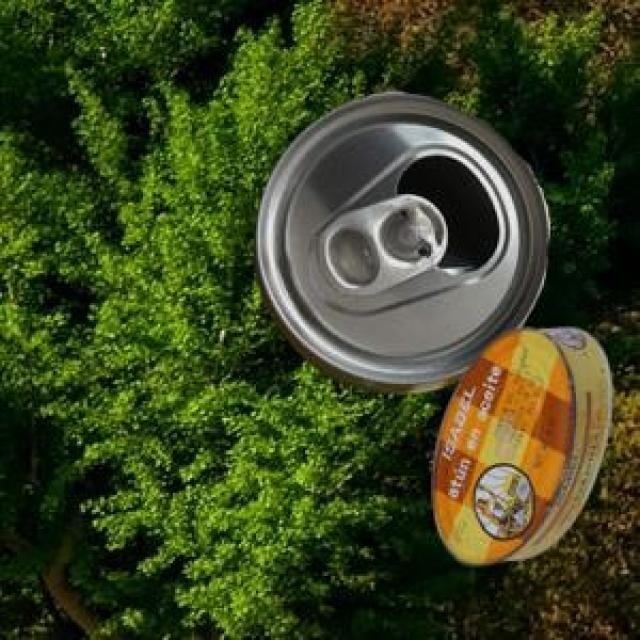Can: (251, 89, 547, 389), (430, 325, 609, 562)
